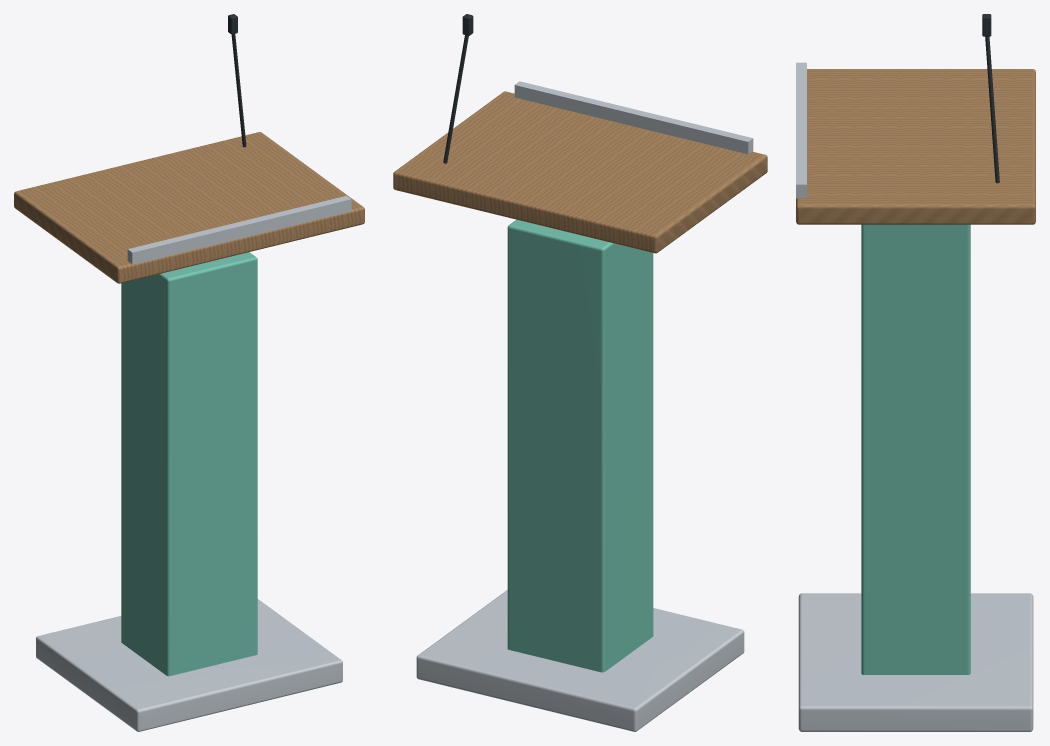
Rendered from lectern.glb.
3 views of the same model, side by side, from view 1: azimuth 30°, elevation 25°; view 2: azimuth 150°, elevation 25°; view 3: azimuth 270°, elevation 25° (orthographic). The views are drawn at different scales.
Parts seen in each view (by area): view 1: Lectern_Column, Lectern_Top, Lectern_Base, Book_Stop; view 2: Lectern_Column, Lectern_Top, Lectern_Base, Book_Stop, Microphone_Stem; view 3: Lectern_Column, Lectern_Top, Lectern_Base, Book_Stop, Microphone_Stem.
Boxes of the visible parts, bbox=[...] form: Lectern_Column: bbox=[121, 252, 257, 676]; Lectern_Top: bbox=[14, 132, 364, 283]; Lectern_Base: bbox=[36, 599, 342, 731]; Book_Stop: bbox=[127, 195, 351, 264]; Lectern_Column: bbox=[507, 219, 653, 672]; Lectern_Top: bbox=[393, 91, 767, 253]; Lectern_Base: bbox=[416, 590, 744, 731]; Book_Stop: bbox=[514, 81, 753, 154]; Microphone_Stem: bbox=[443, 35, 468, 163]; Lectern_Column: bbox=[861, 224, 970, 674]; Lectern_Top: bbox=[796, 69, 1035, 224]; Lectern_Base: bbox=[798, 593, 1033, 731]; Book_Stop: bbox=[796, 62, 806, 198]; Microphone_Stem: bbox=[985, 36, 999, 183].
Size of the model in its own units: 0.6 by 1.42 by 0.44.
4 materials, 1 textured.
